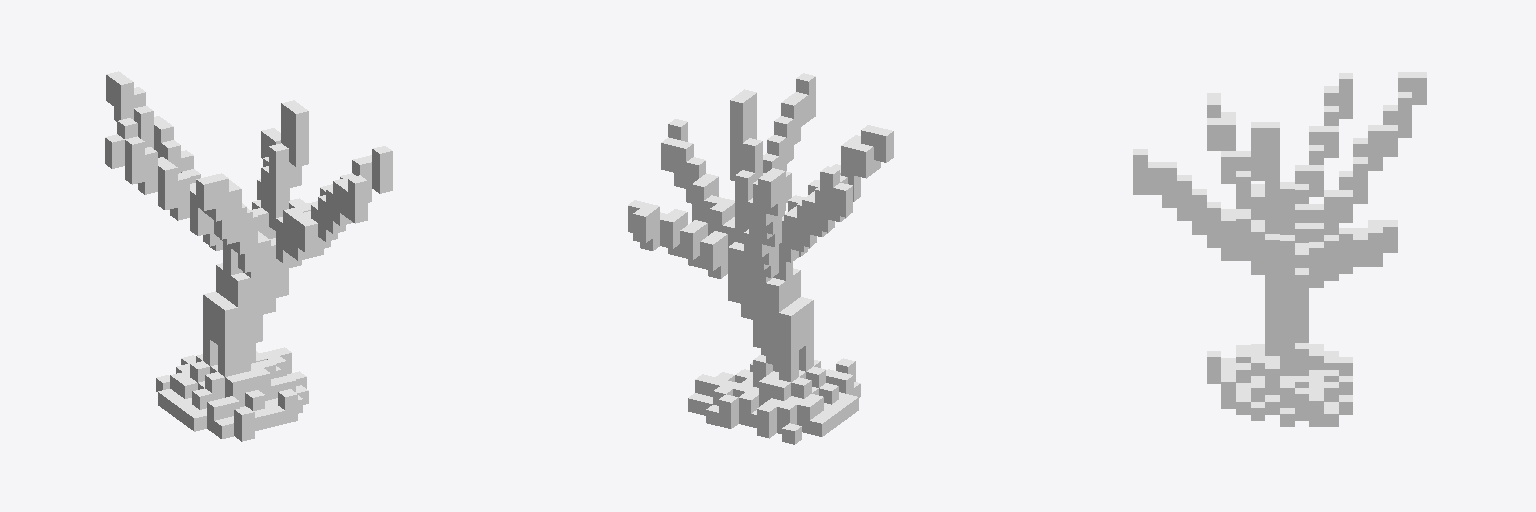
The model's file is scenery1_Tree_Snow.obj.
3 renders of one model, left to right at view 1: azimuth 30°, elevation 25°; view 2: azimuth 150°, elevation 25°; view 3: azimuth 270°, elevation 25°, orthographic.
Visible parts, largest first — view 1: object 1; view 2: object 1; view 3: object 1.
Part boxes in pixels (bbox=[...]): object 1: bbox=[105, 71, 392, 441]; object 1: bbox=[628, 73, 893, 444]; object 1: bbox=[1133, 72, 1426, 426].
Bounding box in the file's own units: 1.8 × 2.2 × 2.